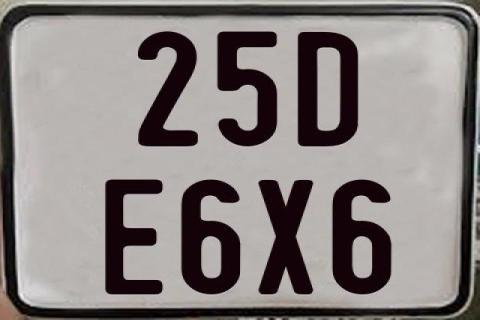0: (216, 29, 281, 149), (138, 29, 203, 147), (330, 177, 395, 295), (179, 178, 239, 298)
D: (296, 32, 356, 150)
E: (104, 179, 166, 295)
X: (255, 180, 312, 296)
